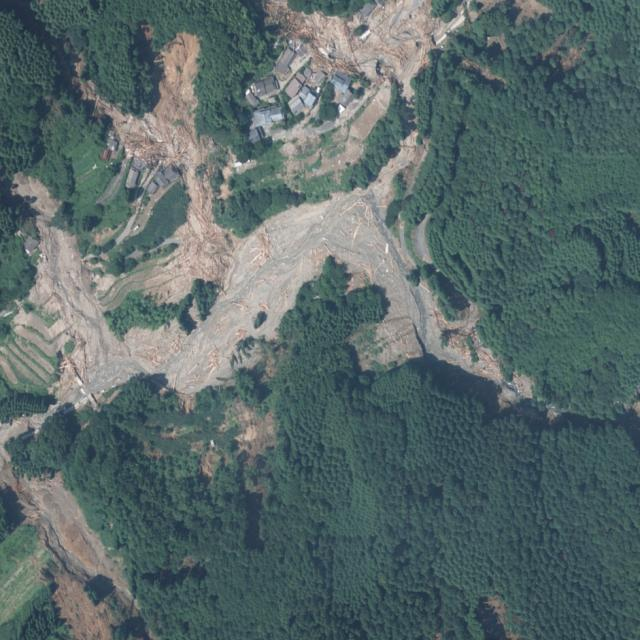landslide: (0, 35, 500, 638), (348, 0, 435, 98), (338, 80, 392, 163), (288, 11, 356, 48), (351, 83, 392, 139), (339, 160, 341, 164)
